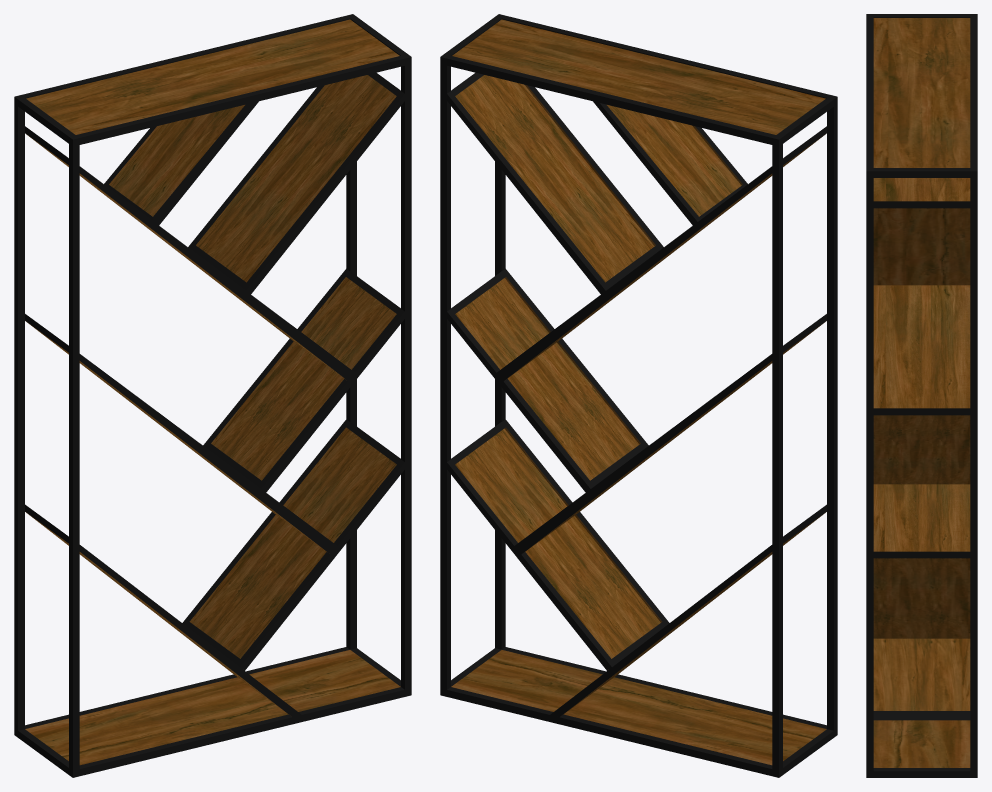
Rendered from book_shelf.glb.
The picture shows the model from 3 angles, left to right: view 1: azimuth 30°, elevation 25°; view 2: azimuth 150°, elevation 25°; view 3: azimuth 270°, elevation 25°; orthographic projection. The views are drawn at different scales.
Parts seen in each view (by area): view 1: Book_shelf; view 2: Book_shelf; view 3: Book_shelf.
Boxes of the visible parts, x1,y1,x2,y2 form: Book_shelf: (14,14,411,777); Book_shelf: (440,14,837,777); Book_shelf: (866,14,977,777).
Bounding box in the file's own units: 10 × 18 × 3.
1 material, 1 textured.
